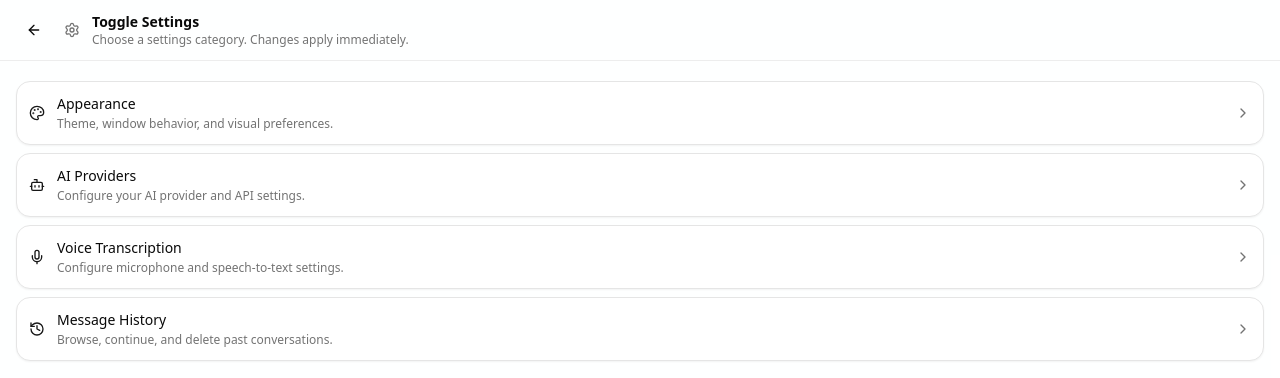
Toggle Settings → Message History › navigation › opens the conversation list at /toggle/settings/history
Click the button "Message History": [112, 320] box 16,297 -> 1264,361
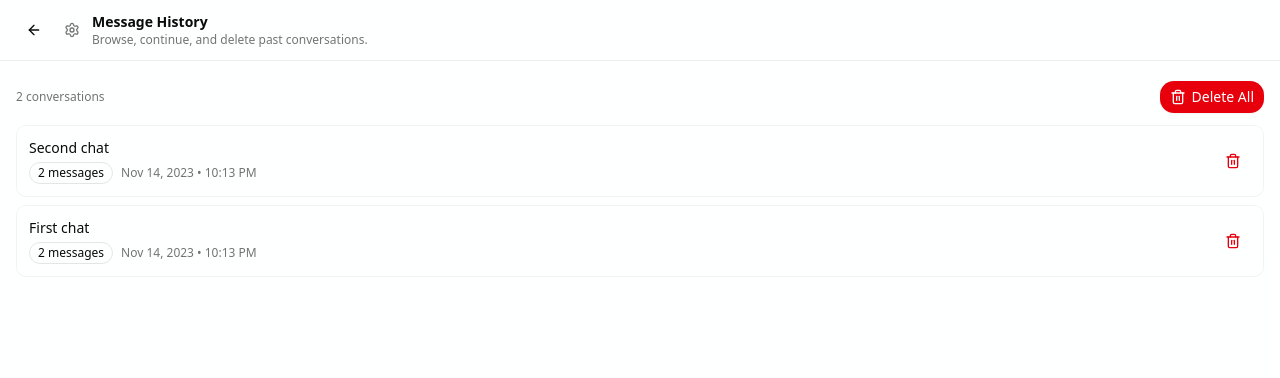
Expected: the text "First chat" is shown, 29,218 -> 89,237
Expected: the text "Second chat" is shown, 29,138 -> 109,157
Expected: the text "2 conversations" is shown, 16,89 -> 105,105
